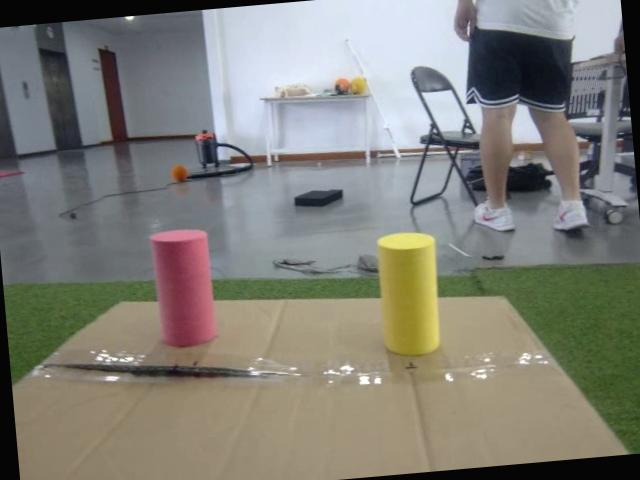red_cylinder: (150, 226, 217, 348)
yellow_cylinder: (374, 229, 444, 356)
